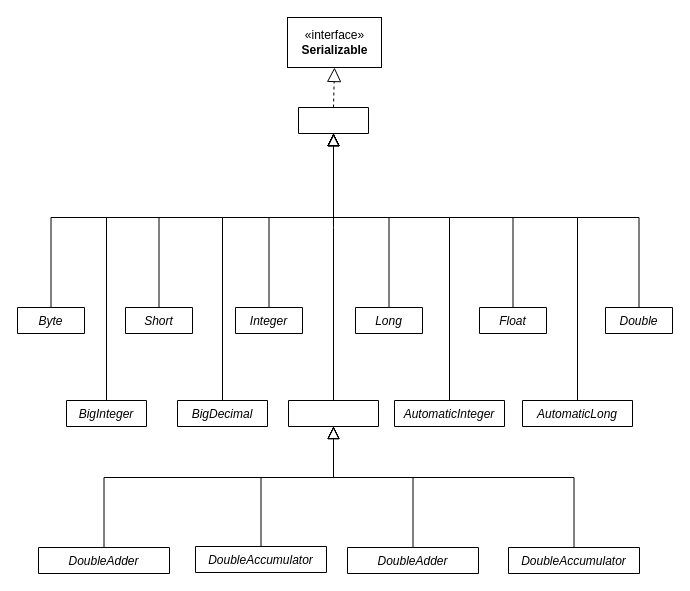
Image size: 690x591. Some labels were removed from this diagram. The shapes that lost their labels are listed below. From the top down, each one's centre as x and y in pixels, then its label:
At point (333, 120): "Number".
At point (333, 413): "Stripted64".
